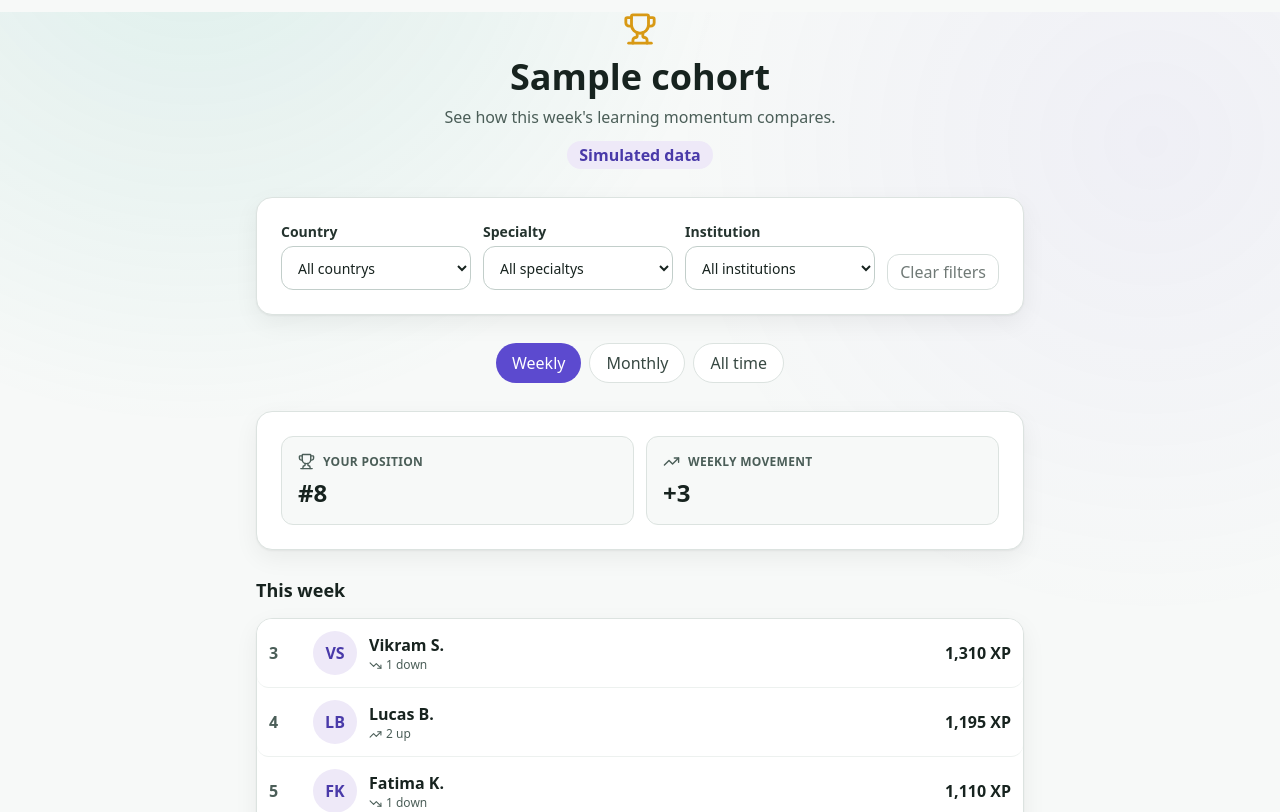
Test: application surfaces › filters the simulated leaderboard by configured learner segments
Expected: the text "Simulated data" is shown, left=567, top=141, right=713, bottom=169
Step 1. Select "India" in the dropdown labelled "Country" → (376, 268), box left=281, top=246, right=471, bottom=290
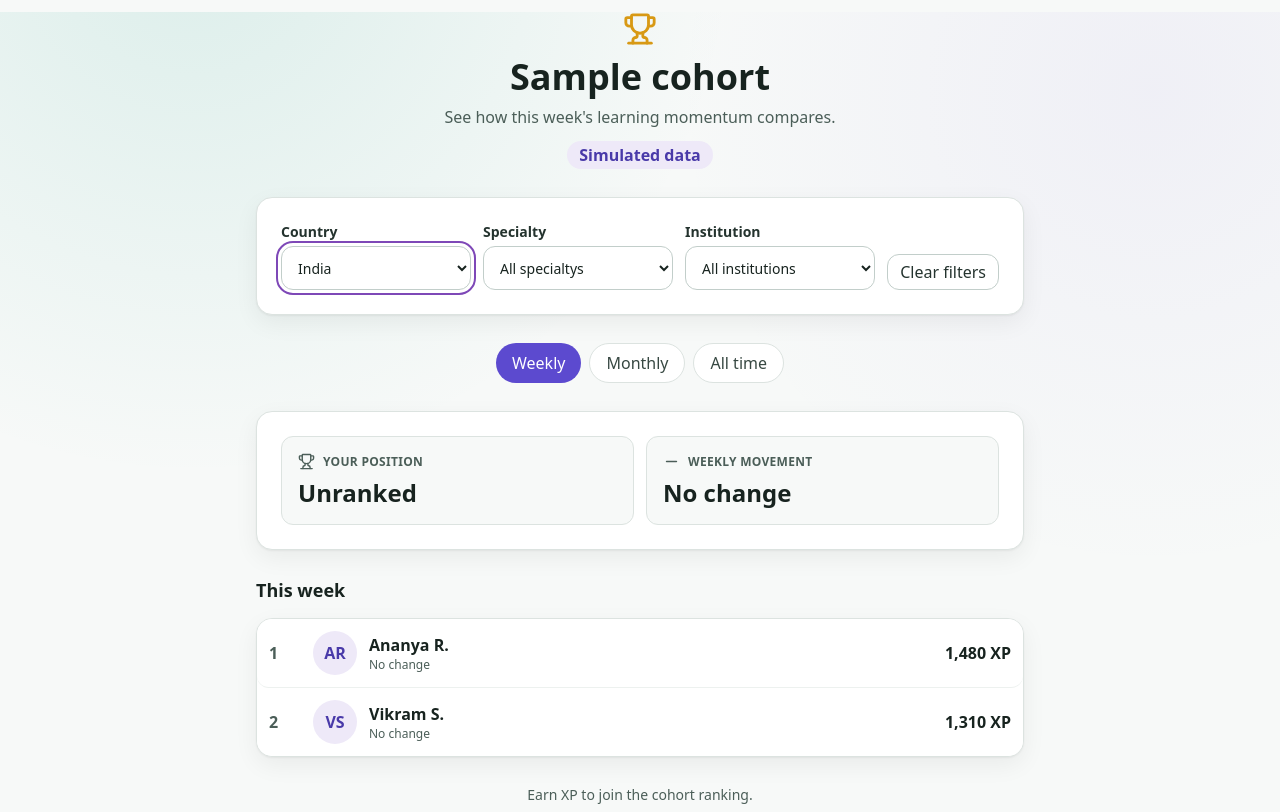
Expected: the text "Vikram S." is shown, left=369, top=703, right=444, bottom=725
Now the text "Ananya R." is shown, box left=369, top=634, right=449, bottom=656
Now the text "Lucas B." is gone
Step 2. Click the button "Clear filters" → click(943, 272), box left=887, top=254, right=999, bottom=290
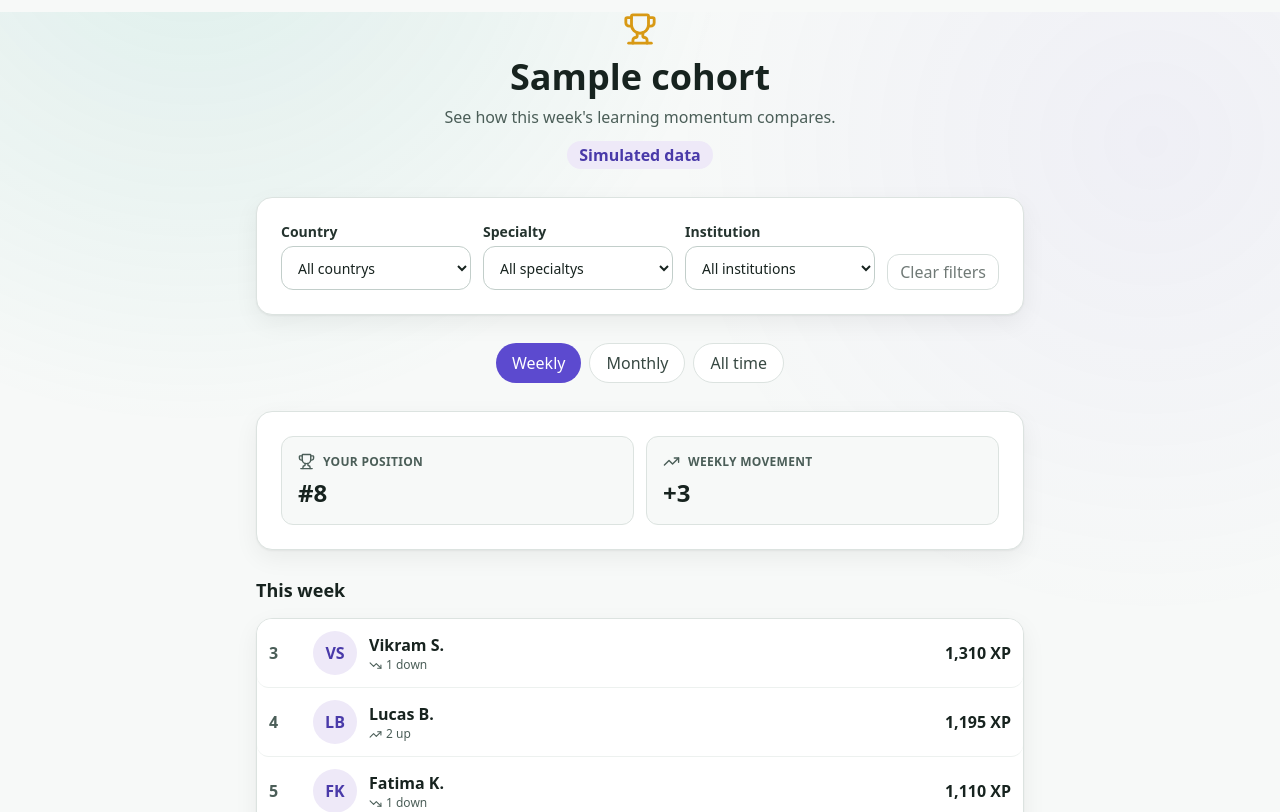
Now the text "Lucas B." is shown, box left=369, top=703, right=434, bottom=725
